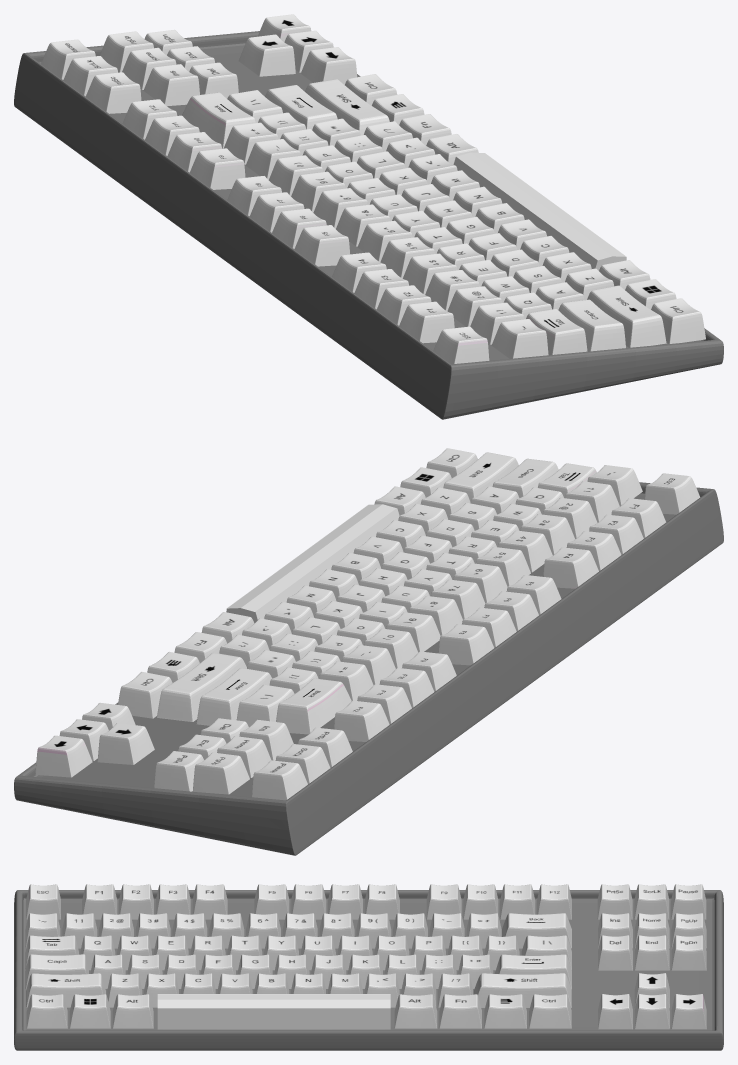
File: tkl_keyboard_white.glb
3 renders of one model, top to bottom at view 1: azimuth 30°, elevation 25°; view 2: azimuth 150°, elevation 25°; view 3: azimuth 270°, elevation 25°, orthographic. The views are drawn at different scales.
Parts seen in each view (by area): view 1: Keyboard Body; view 2: Keyboard Body; view 3: Keyboard Body.
Part boxes in pixels (x1=…): Keyboard Body: x1=14, y1=14, x2=723, y2=419; Keyboard Body: x1=14, y1=448, x2=723, y2=855; Keyboard Body: x1=14, y1=884, x2=723, y2=1050.
Size of the model in its own units: 5.55 by 1.5 by 14.78.
2 materials, 1 textured.
